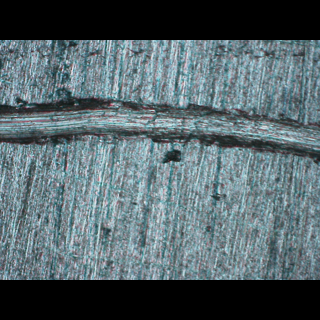d: (0, 95, 319, 166)
